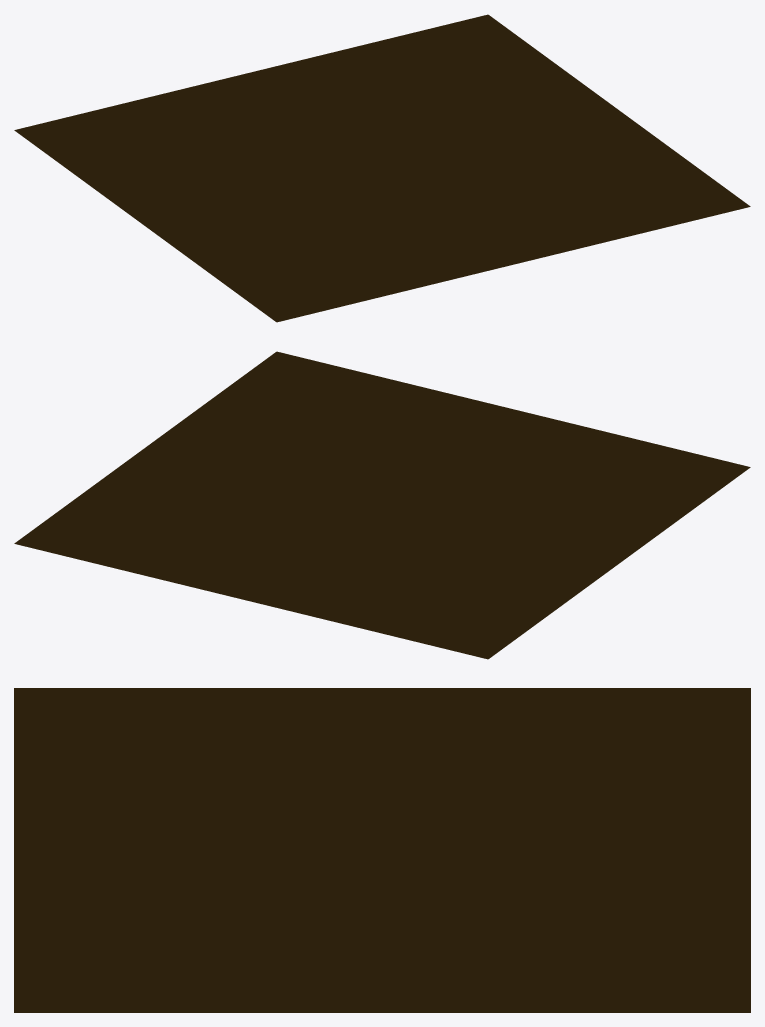
File: FLOOR.fbx
The picture shows the model from 3 angles, top to bottom: view 1: azimuth 30°, elevation 25°; view 2: azimuth 150°, elevation 25°; view 3: azimuth 270°, elevation 25°; orthographic projection. The views are drawn at different scales.
Parts seen in each view (by area): view 1: Plano general; view 2: Plano general; view 3: Plano general.
Boxes of the visible parts, x1,y1,x2,y2 form: Plano general: (14, 14, 750, 322); Plano general: (14, 351, 750, 659); Plano general: (14, 688, 750, 1012).
Size of the model in its own units: 41658 by 0.2325 by 39964.
